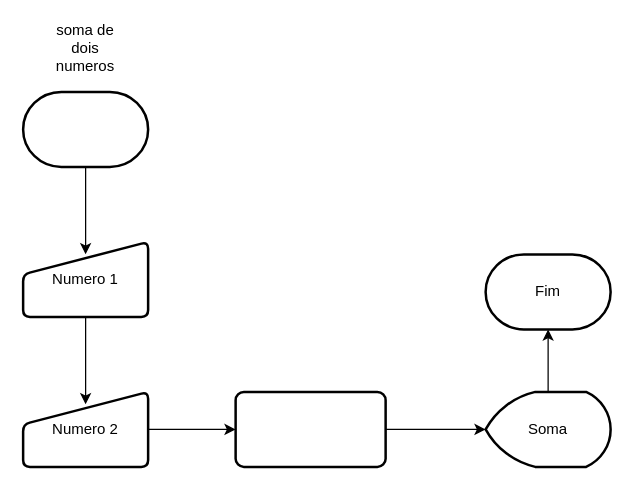
Some shapes in this 633 by 490 pixel diagram are drawn without their labels. The shapes that lost their labels are listed below. From the top down, each one's centre as x and y in pixels, then its label:
At point (85, 129): "Inicio".
At point (310, 429): "Soma=numero 1 + numero 2".
